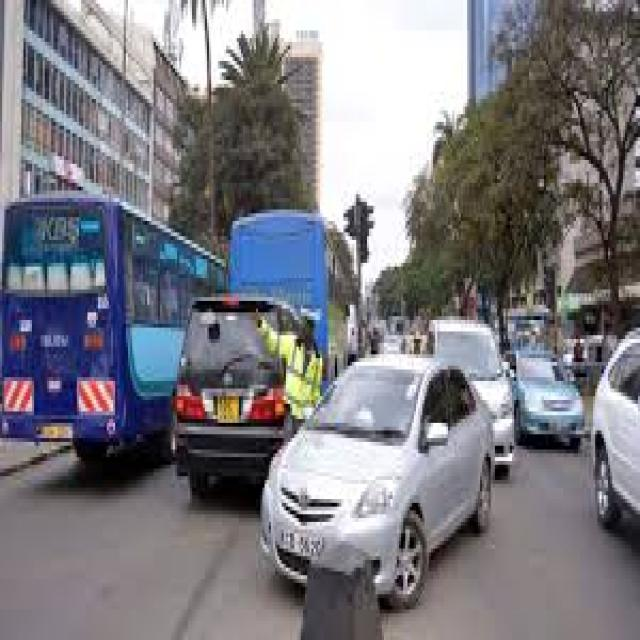bus: (0, 170, 172, 491), (224, 173, 350, 323)
